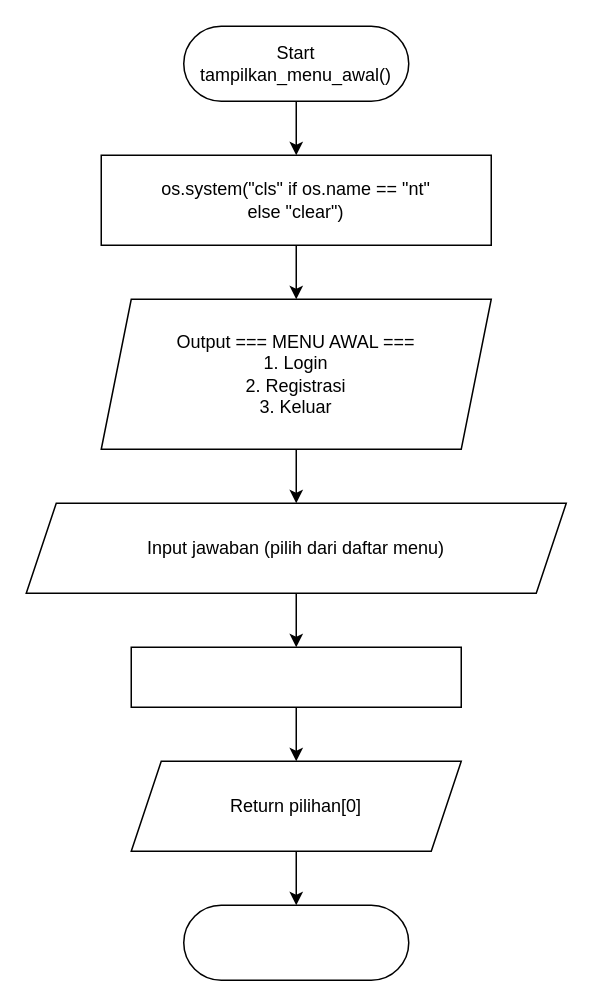
The diagram is 593 pixels wide and 1007 high, and some of its shapes have lost their labels. Each missing label, with the centre of its shape:
pilihan = jawaban["pilihan"]: pixel 295 676
Selesai: pixel 295 942
